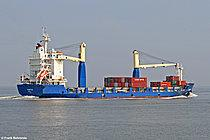Ship: (14, 22, 199, 104)
